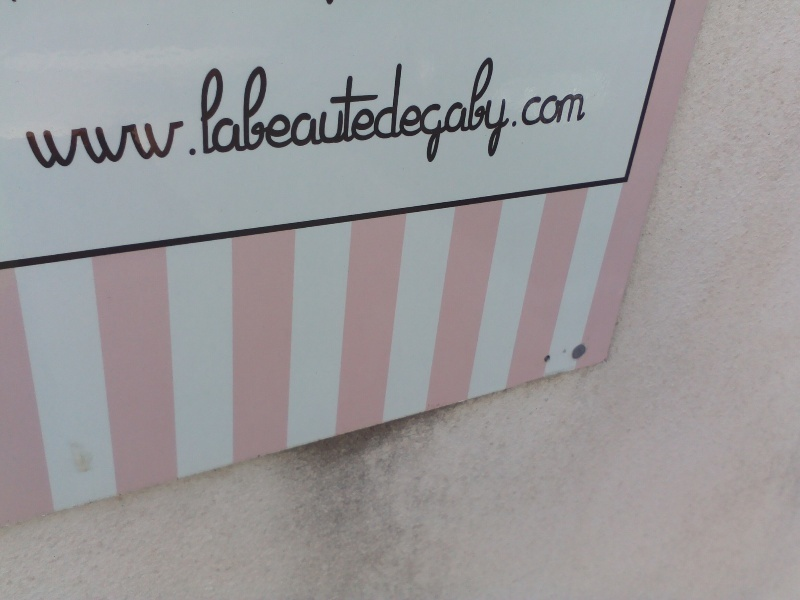text: (33, 40, 48, 202), (49, 40, 64, 202), (65, 40, 80, 202), (81, 40, 96, 202), (97, 40, 112, 202), (113, 40, 128, 202), (129, 40, 144, 202), (145, 40, 160, 202), (161, 40, 176, 202), (177, 40, 192, 202), (193, 40, 208, 202), (209, 40, 224, 202), (225, 40, 240, 202), (241, 40, 256, 202), (257, 40, 272, 202), (273, 40, 288, 202), (289, 40, 304, 202), (305, 40, 320, 202), (321, 40, 336, 202), (337, 40, 352, 202), (353, 40, 368, 202), (369, 40, 384, 202), (385, 40, 400, 202), (401, 40, 416, 202), (417, 40, 432, 202), (433, 40, 448, 202), (449, 40, 464, 202), (465, 40, 480, 202), (481, 40, 496, 202), (497, 40, 512, 202), (513, 40, 528, 202), (529, 40, 544, 202), (545, 40, 560, 202), (561, 40, 576, 202), (577, 40, 592, 202), (22, 40, 32, 202)
